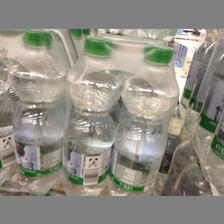water: (107, 46, 180, 196), (62, 36, 121, 196), (7, 31, 63, 194)
